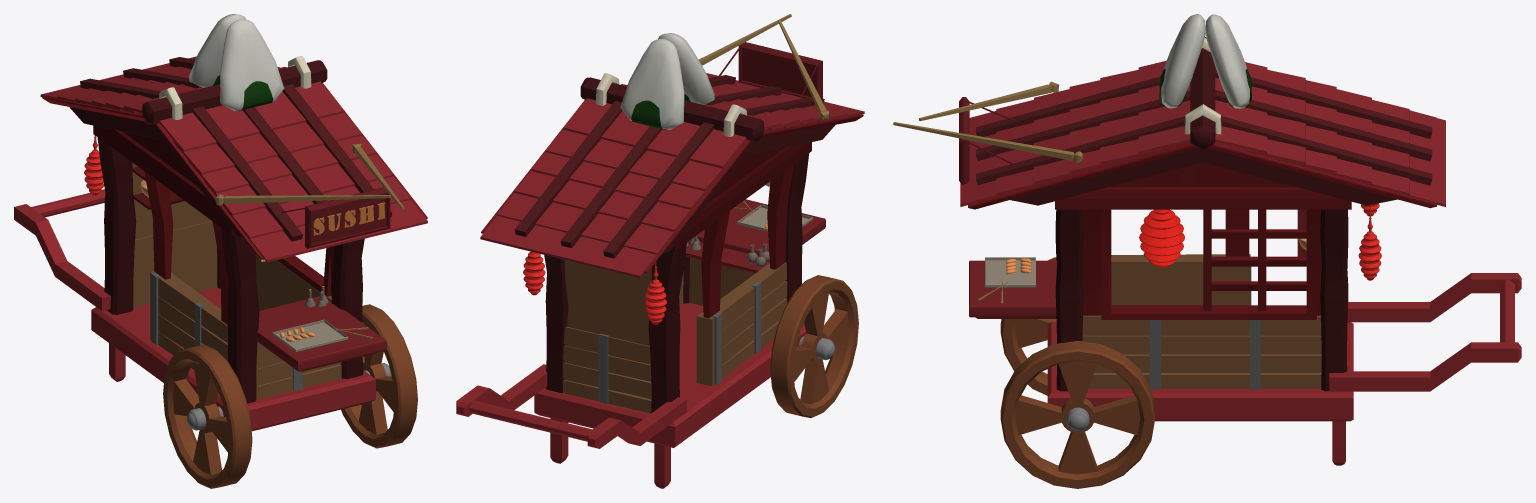
File: Sushi_Station.fbx
3 views of the same model, side by side, from view 1: azimuth 30°, elevation 25°; view 2: azimuth 150°, elevation 25°; view 3: azimuth 270°, elevation 25° (orthographic). The views are drawn at different scales.
Visible parts, largest first — view 1: pCube63, polySurface16, polySurface22, pCube62, pCube65, polySurface27, polySurface61, pCube67, pCylinder7, pCube66, pCube28, polySurface58 (+7 smaller); view 2: pCube63, polySurface22, pCube65, polySurface16, pCube62, polySurface27, polySurface61, pCylinder7, pCube66, pCube28, polySurface58, pCube67 (+6 smaller); view 3: pCube63, pCube66, polySurface22, pCube65, polySurface16, polySurface27, pCube62, pCylinder7, polySurface61, pCube67, pCube30, pCube64 (+5 smaller).
Part boxes in pixels (x1,y1,x2,y2): pCube63: [40, 56, 427, 262]; polySurface16: [163, 304, 417, 488]; polySurface22: [132, 162, 341, 399]; pCube62: [97, 137, 364, 403]; pCube65: [14, 189, 375, 431]; polySurface27: [80, 57, 392, 241]; polySurface61: [189, 14, 284, 110]; pCube67: [256, 296, 386, 371]; pCylinder7: [69, 60, 327, 237]; pCube66: [144, 171, 333, 324]; pCube28: [93, 125, 235, 235]; polySurface58: [282, 187, 390, 248]; pCube63: [480, 73, 864, 277]; polySurface22: [563, 258, 787, 413]; pCube65: [456, 303, 806, 488]; polySurface16: [770, 275, 858, 417]; pCube62: [544, 153, 808, 412]; polySurface27: [514, 75, 824, 258]; polySurface61: [620, 33, 714, 129]; pCylinder7: [580, 77, 835, 253]; pCube66: [701, 164, 794, 318]; pCube28: [671, 142, 811, 251]; polySurface58: [716, 42, 822, 100]; pCube67: [685, 199, 825, 273]; pCube63: [960, 60, 1445, 206]; pCube66: [1055, 162, 1351, 319]; polySurface22: [1082, 254, 1321, 388]; pCube65: [1047, 273, 1521, 465]; polySurface16: [1000, 257, 1155, 488]; polySurface27: [976, 67, 1432, 185]; pCube62: [1055, 209, 1348, 391]; pCylinder7: [1010, 37, 1397, 205]; polySurface61: [1159, 14, 1251, 108]; pCube67: [969, 260, 1111, 318]; pCube30: [968, 110, 1436, 209]; pCube64: [893, 81, 1082, 304].
Size of the model in its own units: 2.42 by 4.52 by 6.01.
